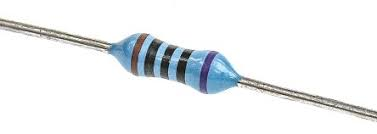resistor: (93, 16, 253, 120)
